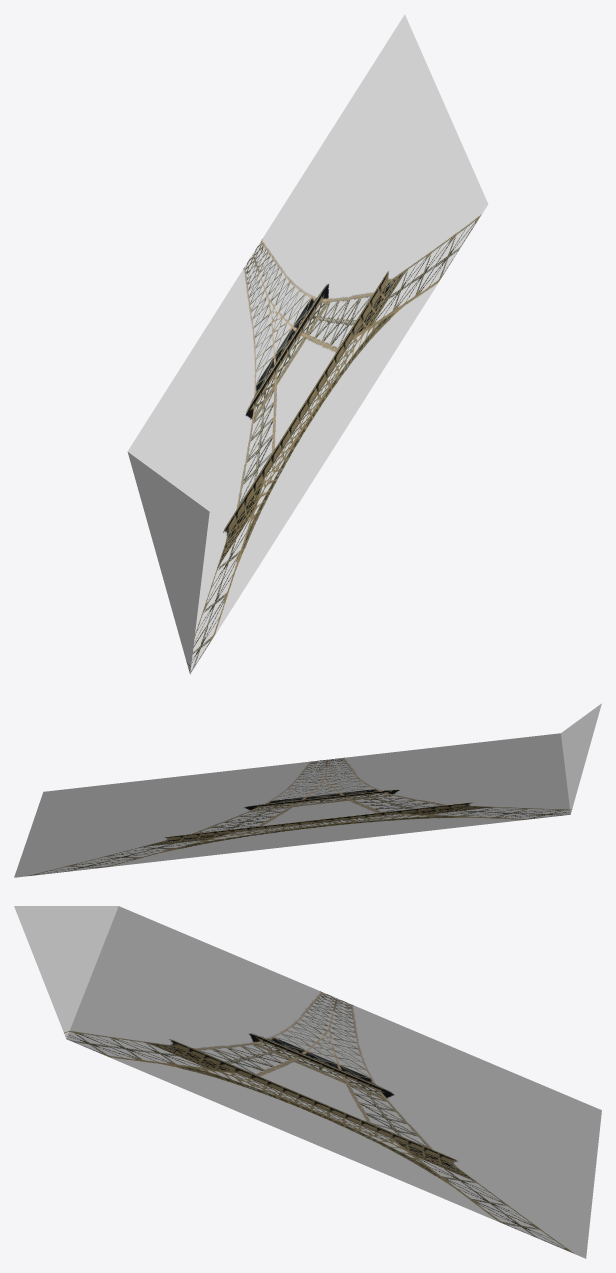
The model's file is 埃菲尔铁塔30.dae.
3 renders of one model, top to bottom at view 1: azimuth 30°, elevation 25°; view 2: azimuth 150°, elevation 25°; view 3: azimuth 270°, elevation 25°, orthographic. The views are drawn at different scales.
Visible parts, largest first — view 1: SketchUp; view 2: SketchUp; view 3: SketchUp.
Part boxes in pixels (x1,y1,x2,y2): SketchUp: [127, 14, 488, 674]; SketchUp: [14, 703, 601, 877]; SketchUp: [14, 906, 601, 1258].
Bounding box in the file's own units: 1033 × 1134 × 269.
